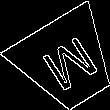M_SE: (33, 29, 101, 96)
